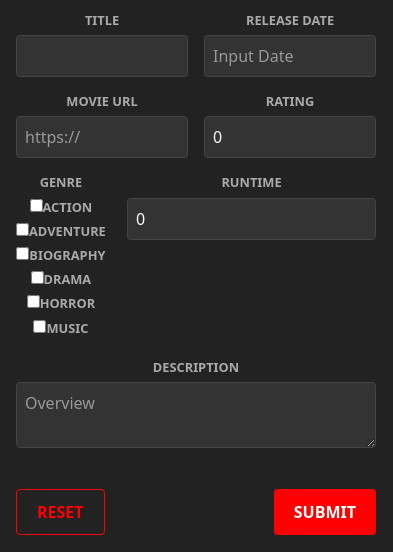
Test: MovieForm Component › clears the form when the reset button is clicked
# Fill out the form
Type "Test Movie" into the field labelled "TITLE". click: (102, 56)
box: [16,35,188,77]
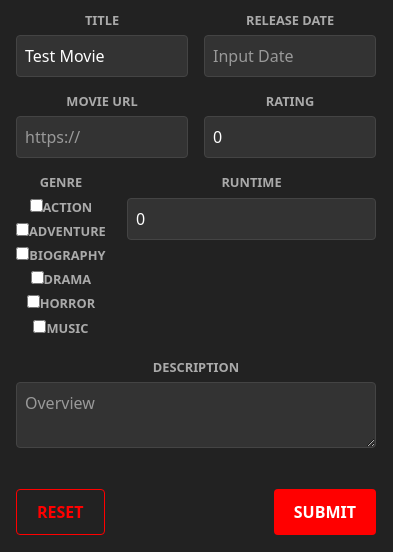
Type "This is a test movie description." into the text box labelled "DESCRIPTION". click: (196, 415)
box: [16,382,376,448]
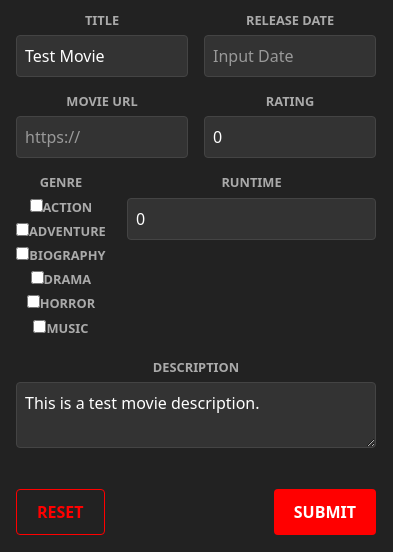
# Reset the form
Click the button "RESET". click: click(60, 512)
box: [16,489,105,535]
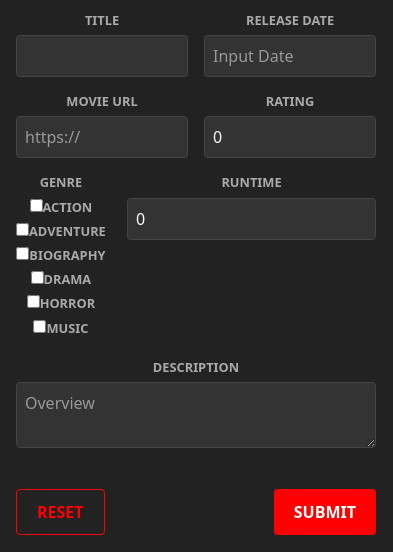
Expected: the field labelled "TITLE" is empty, [16,35,188,77]
Expected: the text box labelled "DESCRIPTION" is empty, [16,382,376,448]
